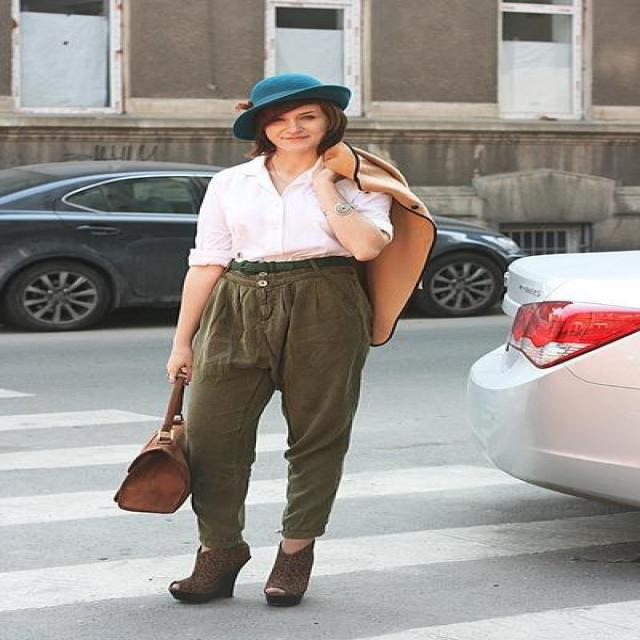bag: (114, 376, 220, 513)
hat: (234, 76, 348, 130)
jacket: (331, 144, 434, 342)
pants: (174, 255, 397, 549)
shirt: (187, 156, 392, 264)
shoe: (173, 537, 312, 608)
